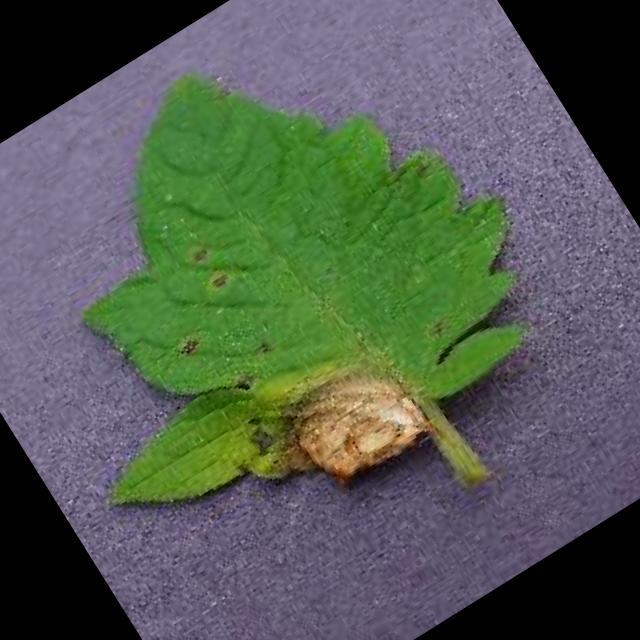Tomato Septoria spot leaf: (0, 0, 587, 593)
